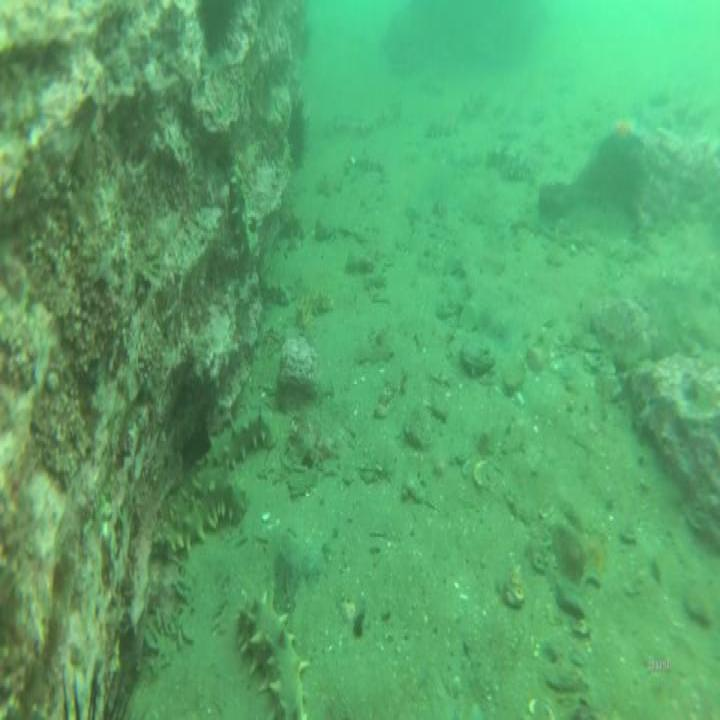echinus: (197, 0, 237, 50), (286, 94, 307, 176)
holothurian: (234, 590, 312, 720), (154, 470, 249, 556), (193, 403, 278, 473), (228, 160, 258, 261), (486, 137, 538, 187), (293, 281, 334, 329), (258, 276, 290, 308)
starfish: (594, 116, 650, 160)
